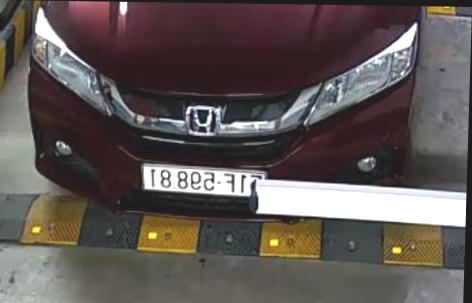License_Plate: (132, 161, 268, 202)
